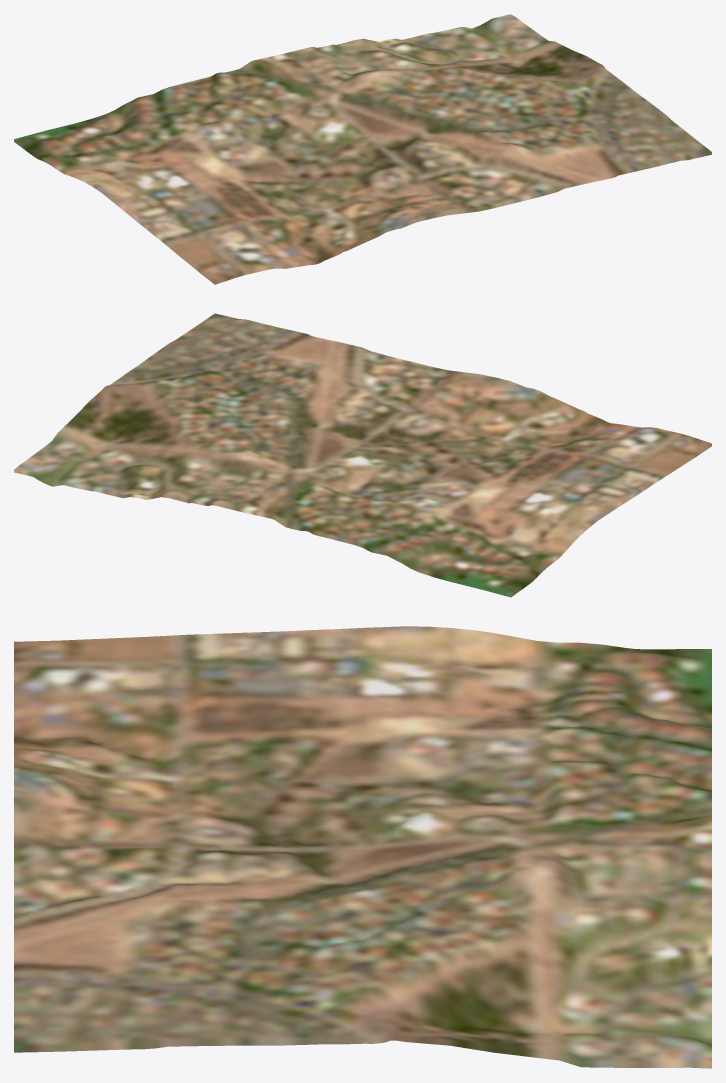
Rendered from terrain_r3_c1_lod1.glb.
3 views of the same model, one above another, from view 1: azimuth 30°, elevation 25°; view 2: azimuth 150°, elevation 25°; view 3: azimuth 270°, elevation 25° (orthographic). The views are drawn at different scales.
Visible parts, largest first — view 1: terrain_r3_c1_lod1; view 2: terrain_r3_c1_lod1; view 3: terrain_r3_c1_lod1.
Boxes of the visible parts, bbox=[...] form: terrain_r3_c1_lod1: bbox=[14, 14, 711, 284]; terrain_r3_c1_lod1: bbox=[14, 313, 711, 597]; terrain_r3_c1_lod1: bbox=[14, 626, 711, 1068].
Size of the model in its own units: 1125 by 61.8 by 787.
Materials: 1 (1 with a texture image).
